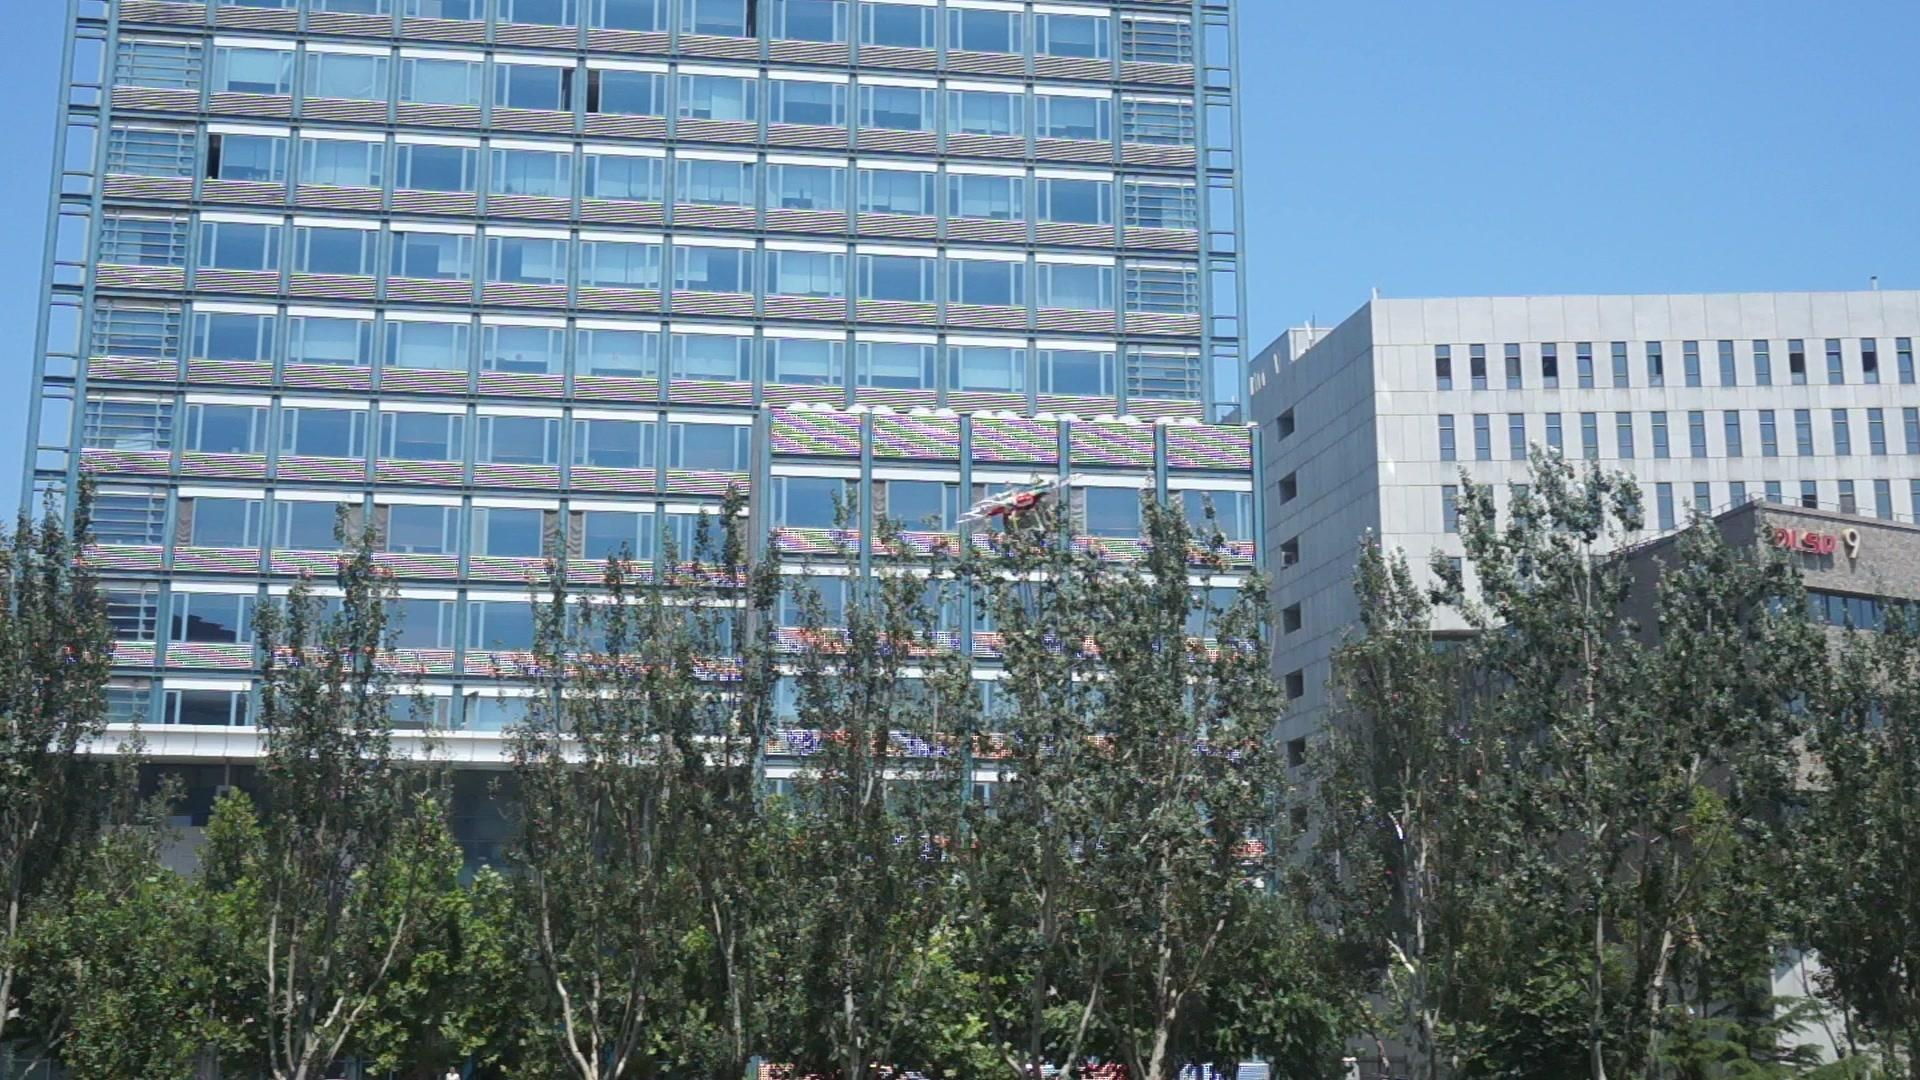UAV: (953, 473, 1084, 534)
